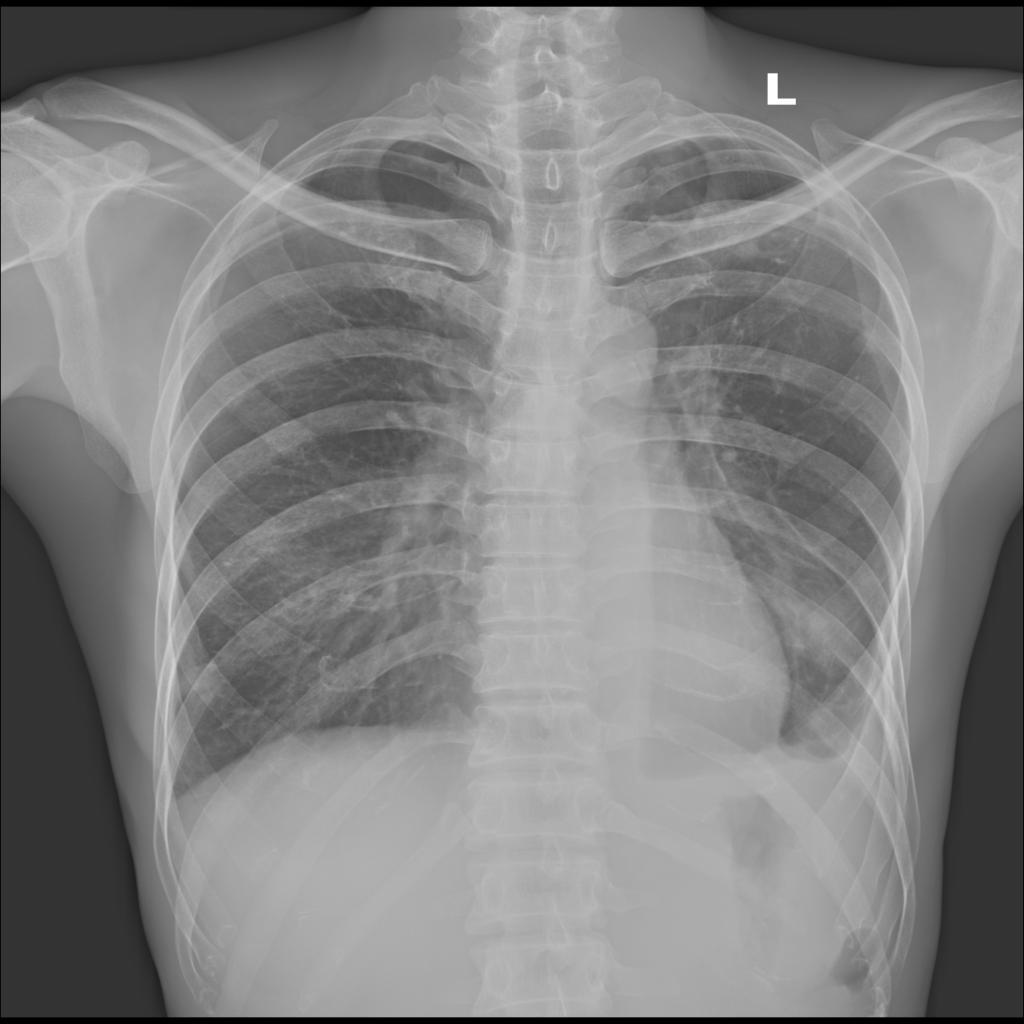Nodule: (180, 665, 210, 699), (727, 236, 763, 263), (851, 331, 879, 357)
